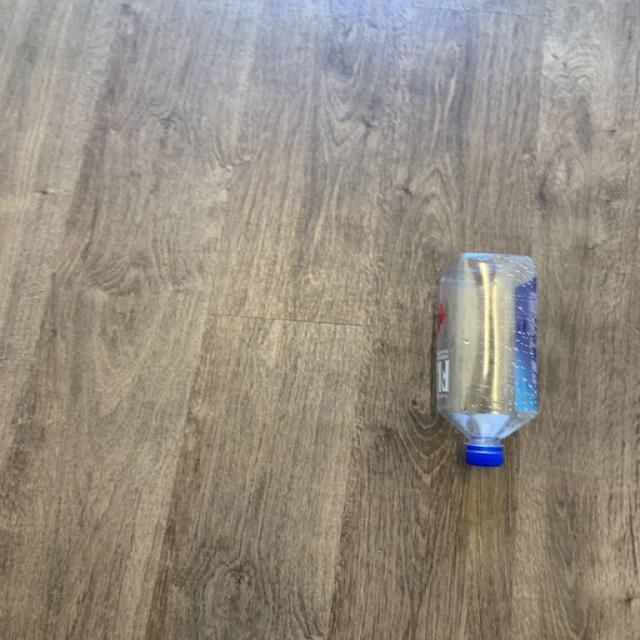Waste: (438, 253, 539, 467)
